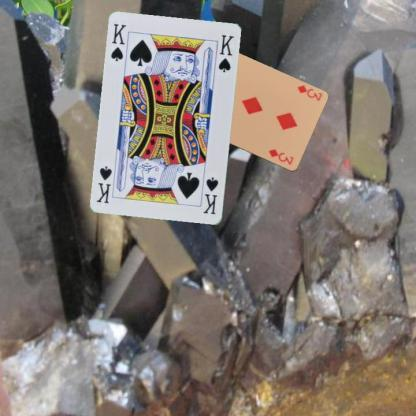3d: (294, 82, 323, 102)
Ks: (108, 21, 128, 63), (200, 175, 219, 216)
